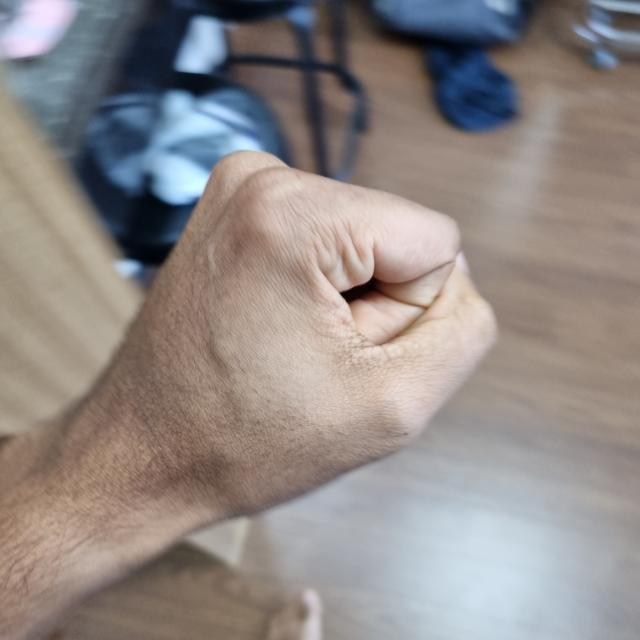Rock: (81, 162, 493, 514)
